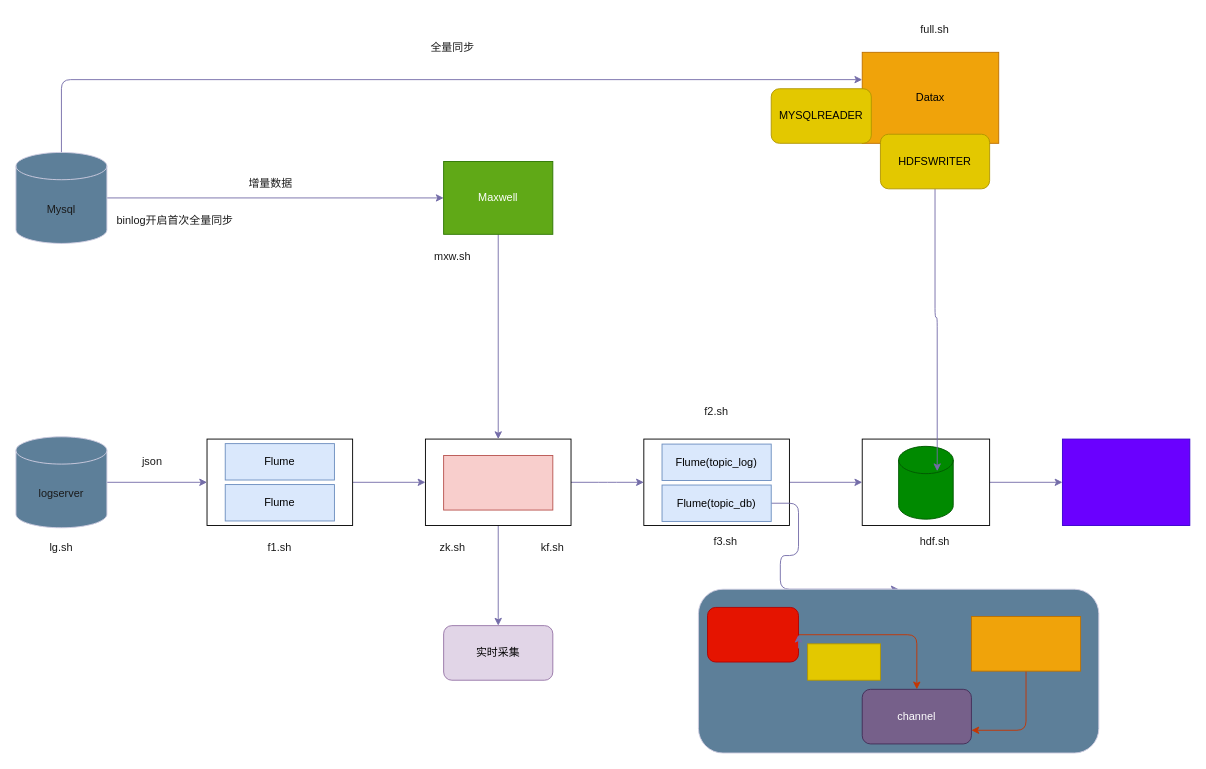
This 1206x769 diagram has some shape labels left out. The shapes that lost their labels are listed below. From the top down, each one's centre as x and y in pixels, then its label:
At point 498,482: "Kafka".
At point 925,482: "hdfs".
At point 1126,482: "数据仓库".
At point 753,634: "source".
At point 1026,643: "sink".
At point 843,661: "拦截器".
